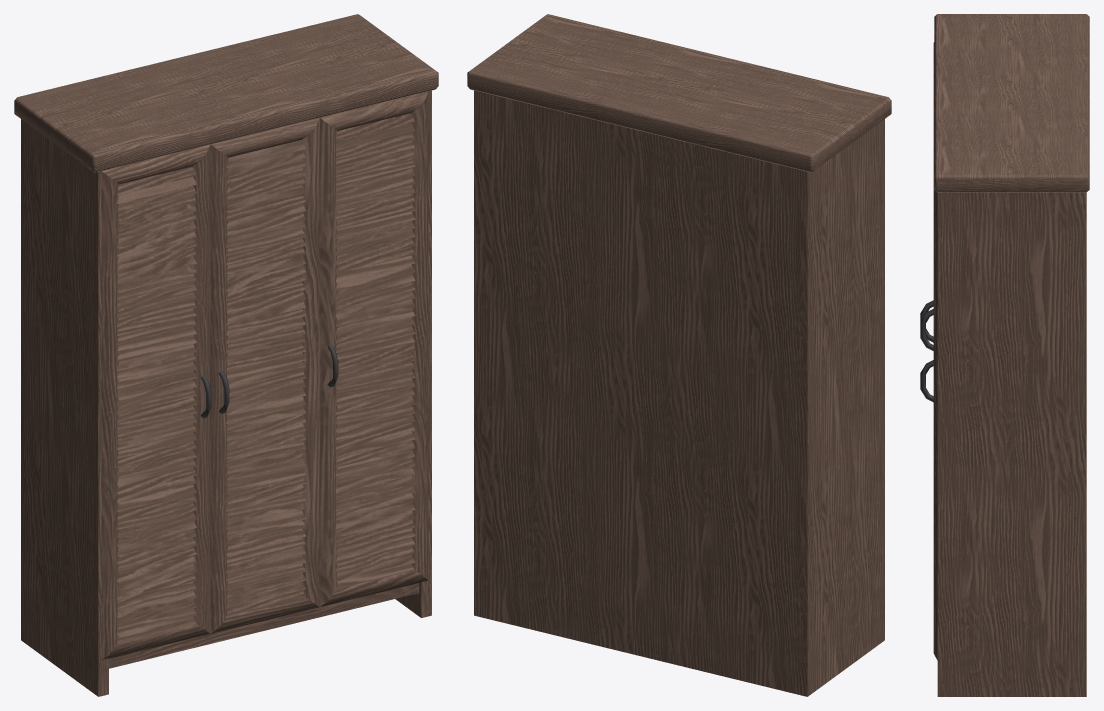
File: cupboard_007.fbx
3 views of the same model, side by side, from view 1: azimuth 30°, elevation 25°; view 2: azimuth 150°, elevation 25°; view 3: azimuth 270°, elevation 25° (orthographic). The views are drawn at different scales.
Parts seen in each view (by area): view 1: cupboard_007; view 2: cupboard_007; view 3: cupboard_007.
Part boxes in pixels (left/top/right/bottom): cupboard_007: left=14, top=14, right=438, bottom=696; cupboard_007: left=467, top=14, right=891, bottom=696; cupboard_007: left=920, top=14, right=1089, bottom=696.
Size of the model in its own units: 156 by 68.22 by 233.
